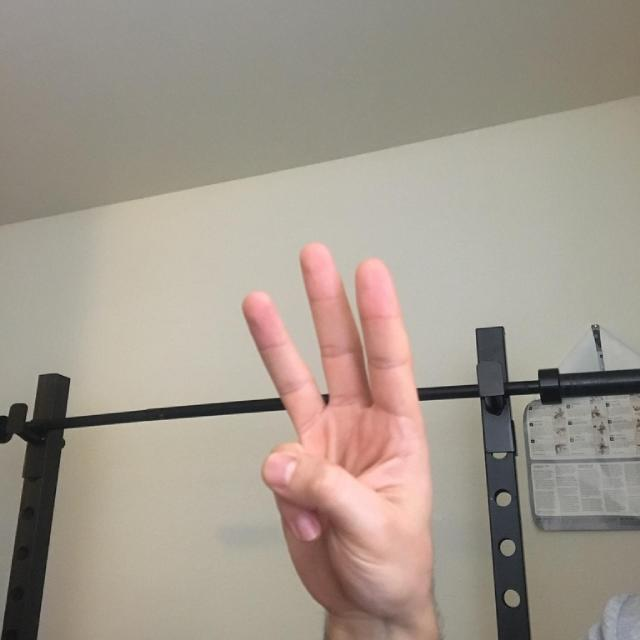W: (197, 192, 502, 640)
